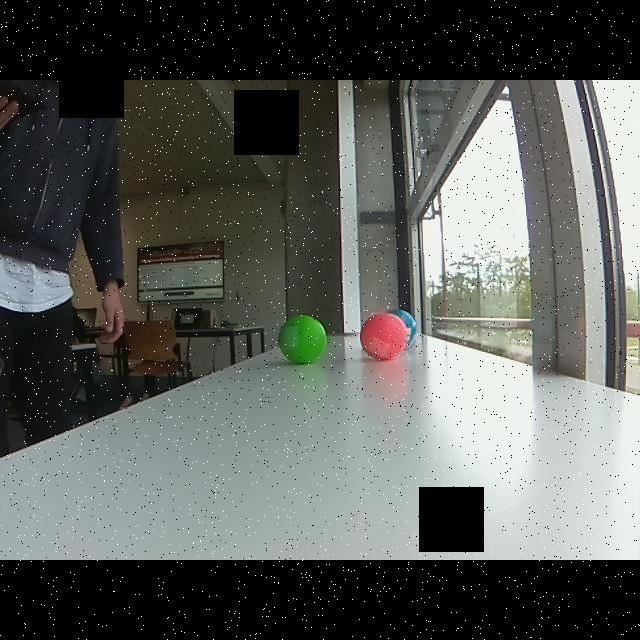ball: (278, 310, 328, 367), (358, 311, 410, 363)
